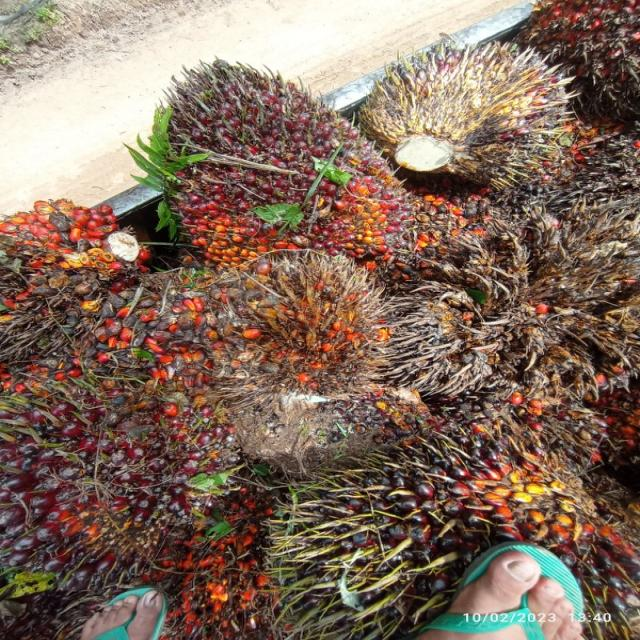fraksi 00: (352, 18, 602, 188)
fraksi 1: (140, 25, 430, 284), (0, 341, 239, 581)
fraksi 3: (0, 177, 153, 325)
fraksi 4: (212, 227, 397, 433)
